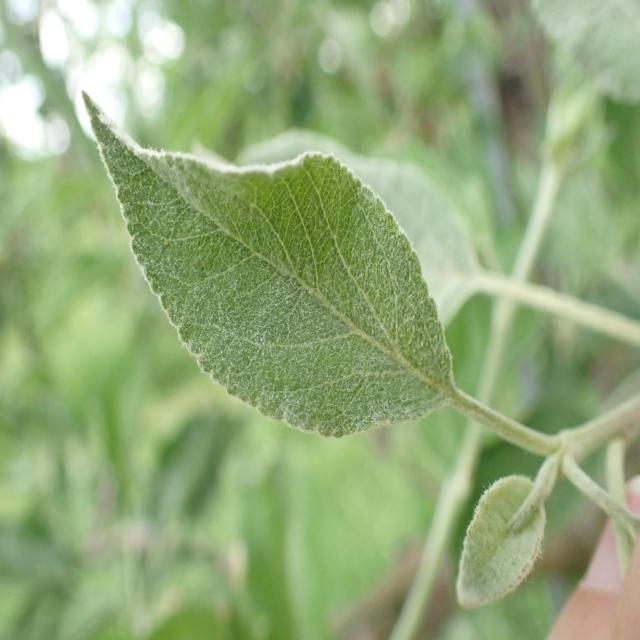Powdery_mildew: (66, 85, 458, 465), (452, 477, 551, 622)
